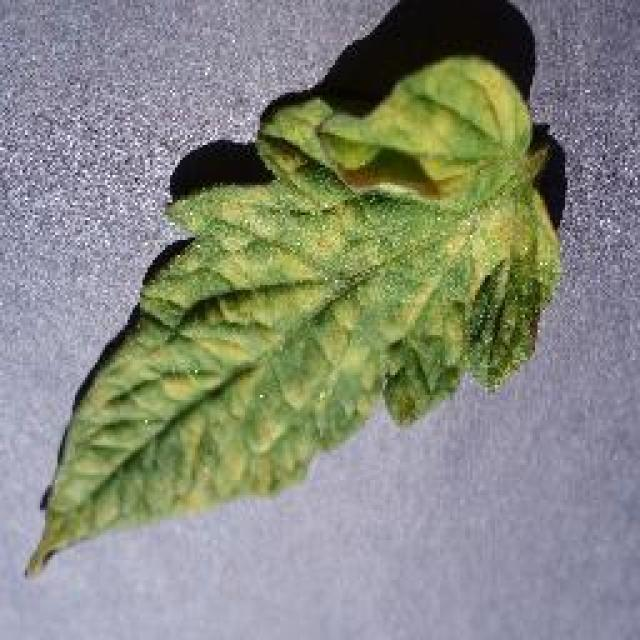Tomato___Leaf_Mold: (30, 55, 558, 572)
